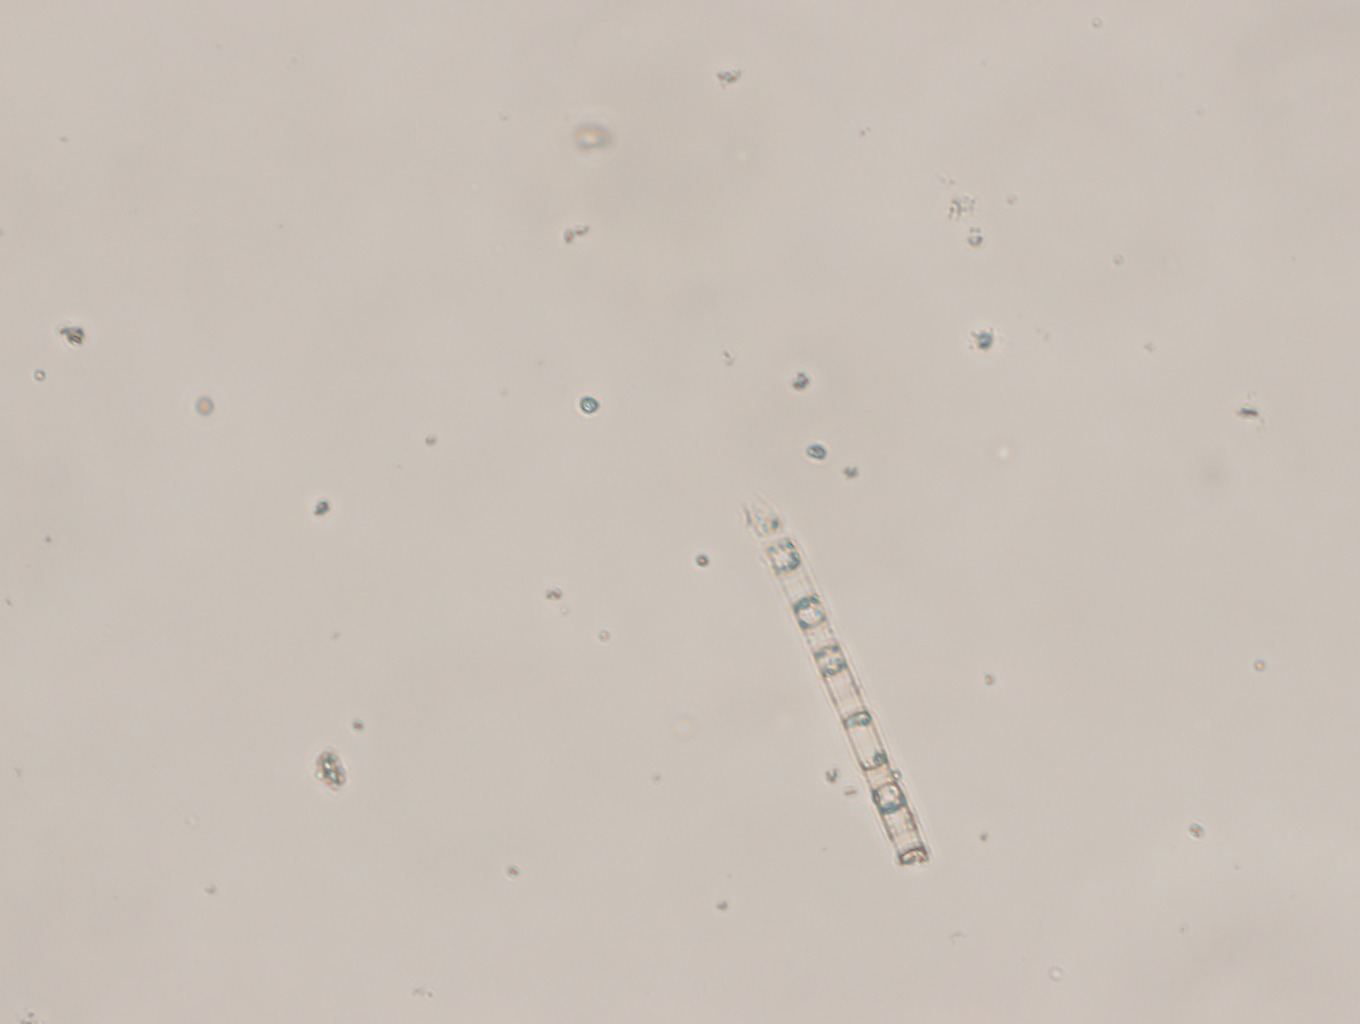skeletonema: (739, 493, 928, 869)
